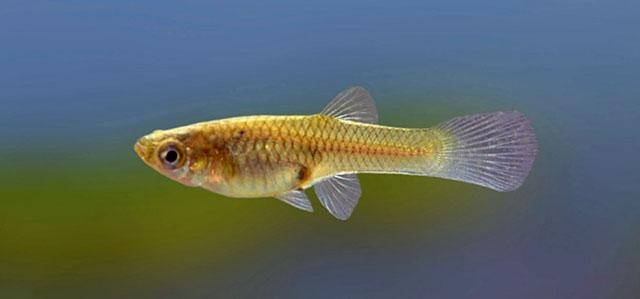Mulut: (90, 126, 178, 171)
Sirip Anal: (312, 170, 366, 226)
Sirip Ekor: (416, 70, 582, 228)
Sirip Perut: (270, 180, 320, 216)
Sirip Punggung: (293, 69, 399, 133)
